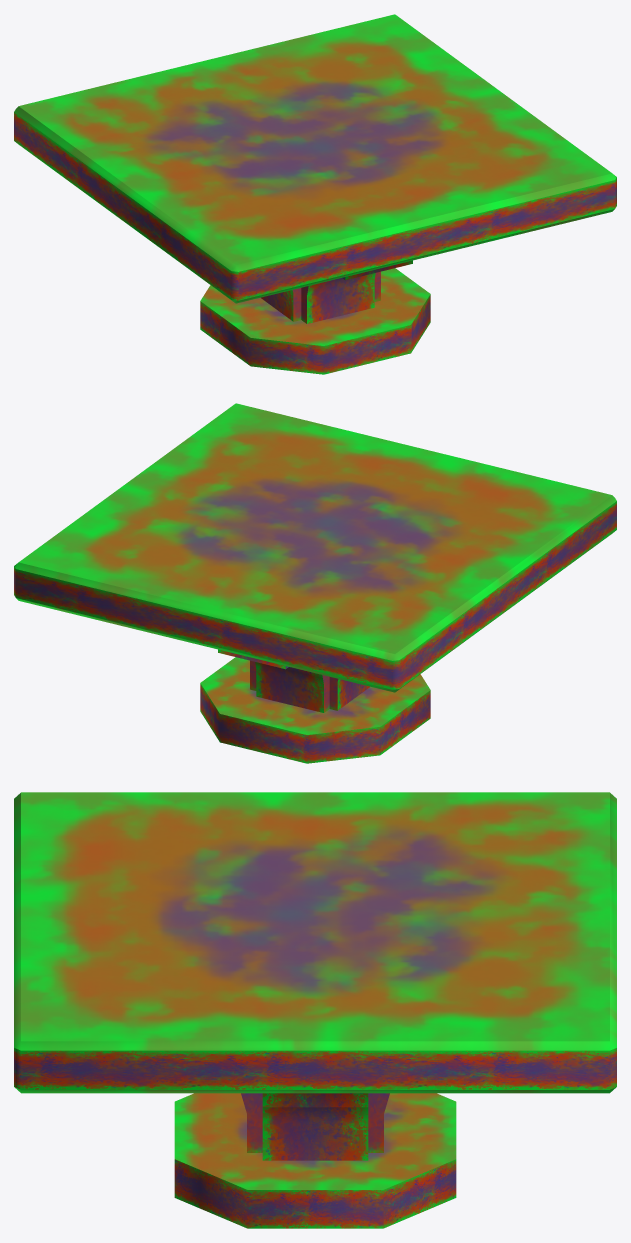
The model's file is AO Table.fbx.
3 views of the same model, one above another, from view 1: azimuth 30°, elevation 25°; view 2: azimuth 150°, elevation 25°; view 3: azimuth 270°, elevation 25° (orthographic). The views are drawn at different scales.
Visible parts, largest first — view 1: Table; view 2: Table; view 3: Table.
Part boxes in pixels (left/top/right/bottom): Table: left=14, top=14, right=616, bottom=374; Table: left=14, top=403, right=616, bottom=763; Table: left=14, top=792, right=616, bottom=1228.
Bounding box in the file's own units: 514 × 237 × 514.
